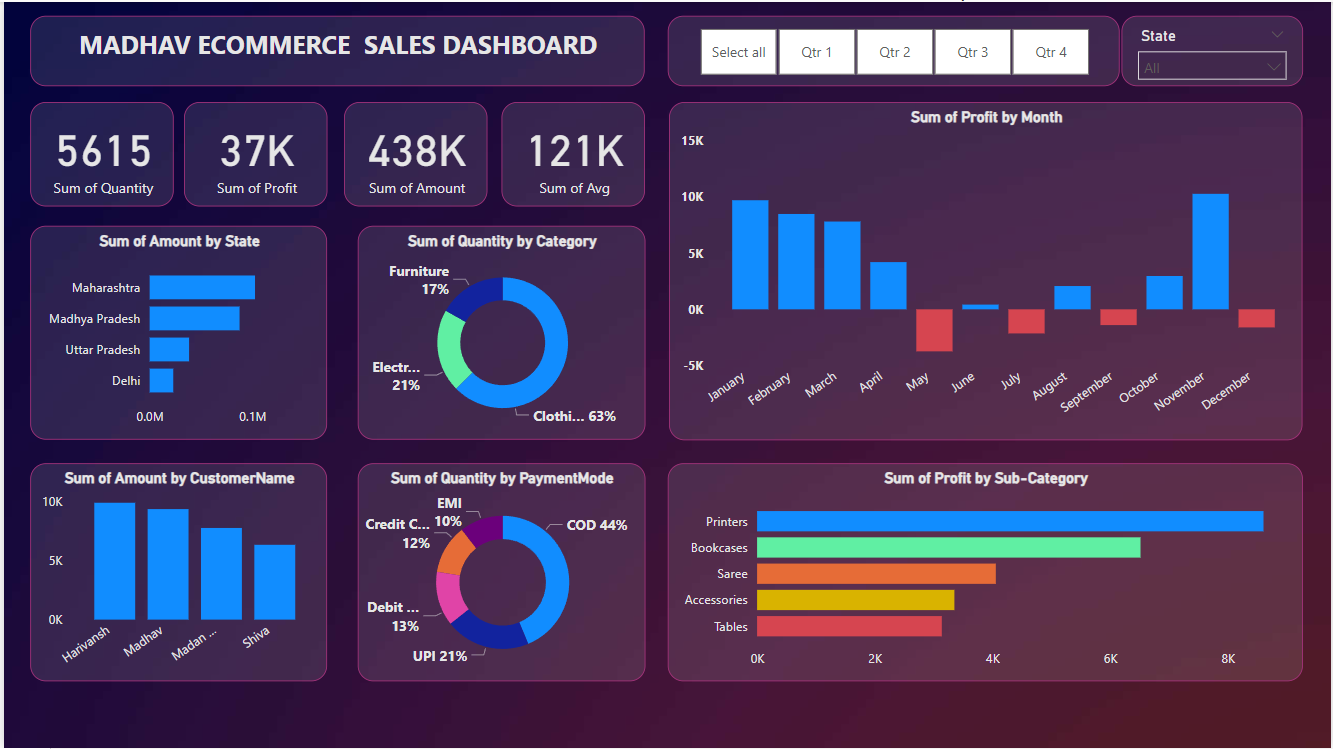

Layout of this report page (visuals, bound fields, positions):
{"tool":"powerbi","page":{"name":"Page 1","canvas":[1280,720],"ordinal":0},"visuals":[{"type":"textbox","box":[25.8,13.6,592.6,68],"z":0},{"type":"slicer","title":"Profit By Month","fields":{"Values":["Orders.Order Date.Variation.Date Hierarchy.Quarter"]},"box":[640.1,13.6,436.3,68],"z":1000},{"type":"barChart","fields":{"Category":["Details.Sub-Category"],"Y":["Sum(Details.Profit)"]},"box":[640.1,444.4,613,210.7],"z":2000},{"type":"donutChart","fields":{"Y":["Sum(Details.Quantity)"],"Category":["Details.PaymentMode"]},"box":[341.1,444.4,277.3,210.7],"z":3000},{"type":"donutChart","fields":{"Category":["Details.Category"],"Y":["Sum(Details.Quantity)"]},"box":[341.1,216.1,277.3,206.6],"z":4000},{"type":"card","fields":{"Values":["Sum(Details.Amount)"]},"box":[327.5,96.5,138.6,100.6],"z":5000},{"type":"card","fields":{"Values":["Sum(Details.Quantity)"]},"box":[25.8,96.5,138.6,100.6],"z":6000},{"type":"card","fields":{"Values":["Sum(Details.Profit)"]},"box":[174,96.5,138.6,100.6],"z":7000},{"type":"card","fields":{"Values":["Sum(Details.AOV)"]},"box":[479.8,96.5,138.6,100.6],"z":8000},{"type":"barChart","fields":{"Category":["Orders.State"],"Y":["Sum(Details.Amount)"]},"box":[25.8,216.1,286.8,206.6],"z":9000},{"type":"columnChart","fields":{"Category":["Orders.CustomerName"],"Y":["Sum(Details.Amount)"]},"box":[25.8,444.4,286.8,210.7],"z":10000},{"type":"slicer","title":"Profit By Month","fields":{"Values":["Orders.State"]},"box":[1077.8,13.6,175.3,68],"z":11000},{"type":"columnChart","fields":{"Category":["Orders.Order Date.Variation.Date Hierarchy.Month"],"Y":["Sum(Details.Profit)"]},"box":[641.5,96.5,611.6,326.2],"z":12000}]}

Visuals, with their boxes in screenshot pixels (x1, y1, x2, y2), scaled from the page's 1280x720 canvas onto the 1333x749 screenshot:
textbox: bbox(27, 14, 644, 85)
"Profit By Month" slicer: bbox(667, 14, 1121, 85)
barChart - Details.Sub-Category x Sum(Details.Profit): bbox(667, 462, 1305, 681)
donutChart - Sum(Details.Quantity) x Details.PaymentMode: bbox(355, 462, 644, 681)
donutChart - Details.Category x Sum(Details.Quantity): bbox(355, 225, 644, 440)
card - Sum(Details.Amount): bbox(341, 100, 485, 205)
card - Sum(Details.Quantity): bbox(27, 100, 171, 205)
card - Sum(Details.Profit): bbox(181, 100, 326, 205)
card - Sum(Details.AOV): bbox(500, 100, 644, 205)
barChart - Orders.State x Sum(Details.Amount): bbox(27, 225, 326, 440)
columnChart - Orders.CustomerName x Sum(Details.Amount): bbox(27, 462, 326, 681)
"Profit By Month" slicer: bbox(1122, 14, 1305, 85)
columnChart - Orders.Order Date.Variation.Date Hierarchy.Month x Sum(Details.Profit): bbox(668, 100, 1305, 440)
